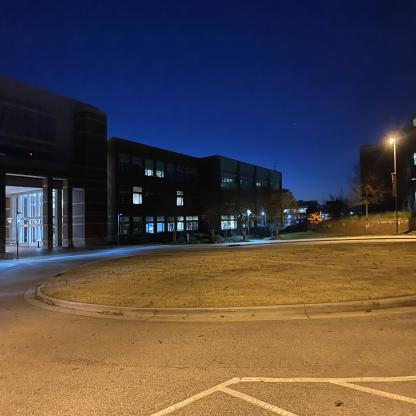eb2: (3, 81, 322, 264)
